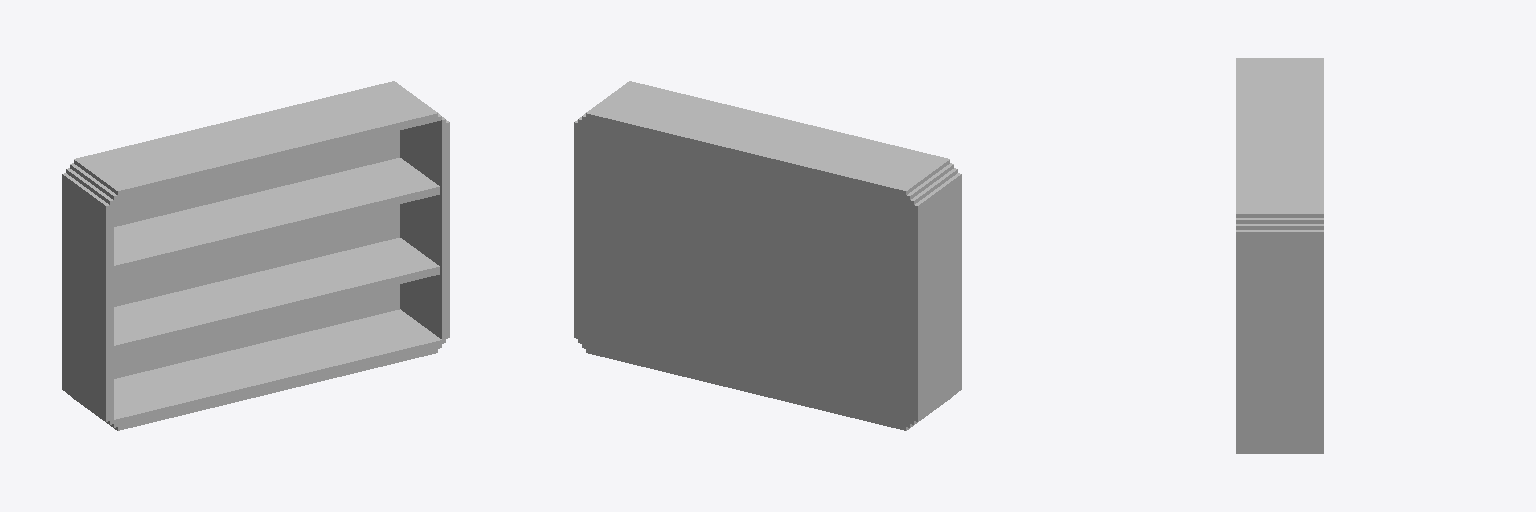
Rendered from Mirro__bath.obj.
The picture shows the model from 3 angles: view 1: azimuth 30°, elevation 25°; view 2: azimuth 150°, elevation 25°; view 3: azimuth 270°, elevation 25°; orthographic projection.
Parts seen in each view (by area): view 1: Mirro__bath; view 2: Mirro__bath; view 3: Mirro__bath.
Boxes of the visible parts, <box> form: Mirro__bath: <box>62,81,449,430</box>; Mirro__bath: <box>574,81,961,430</box>; Mirro__bath: <box>1236,58,1323,453</box>.
Size of the model in its own units: 90 by 60 by 20.